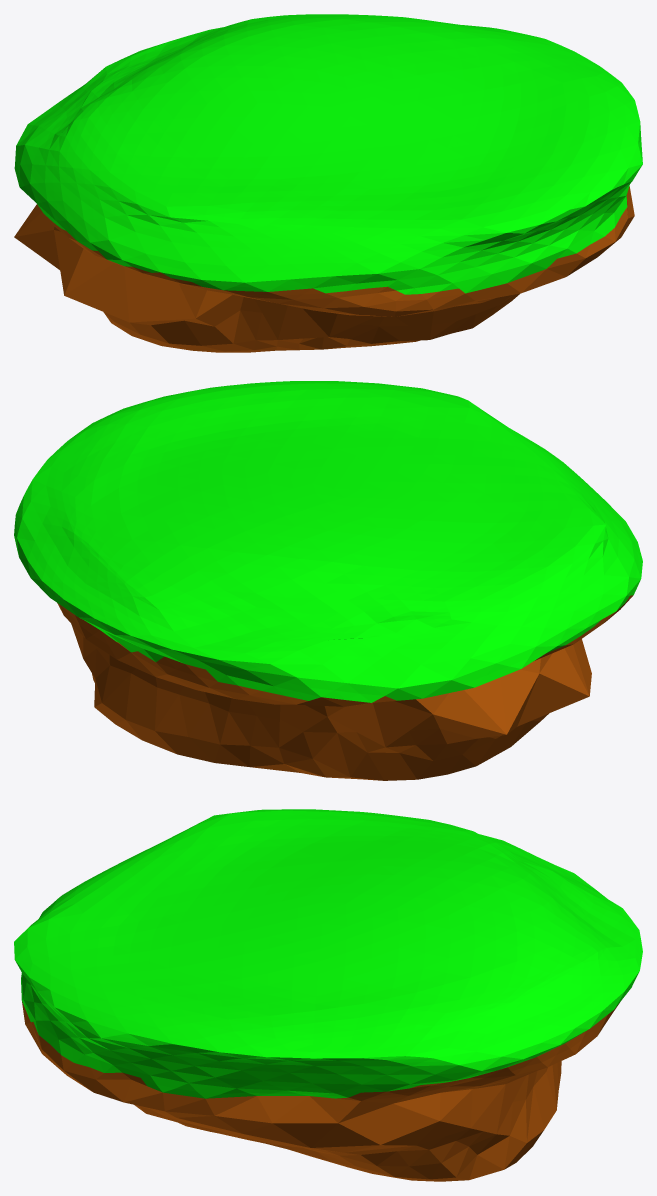
The model's file is Island_4.fbx.
3 views of the same model, one above another, from view 1: azimuth 30°, elevation 25°; view 2: azimuth 150°, elevation 25°; view 3: azimuth 270°, elevation 25° (orthographic). The views are drawn at different scales.
Visible parts, largest first — view 1: Island_4; view 2: Island_4; view 3: Island_4.
Boxes of the visible parts, x1,y1,x2,y2 form: Island_4: (14,14,642,352); Island_4: (14,381,642,780); Island_4: (14,809,642,1181).
Bounding box in the file's own units: 197 × 78.41 × 195.
